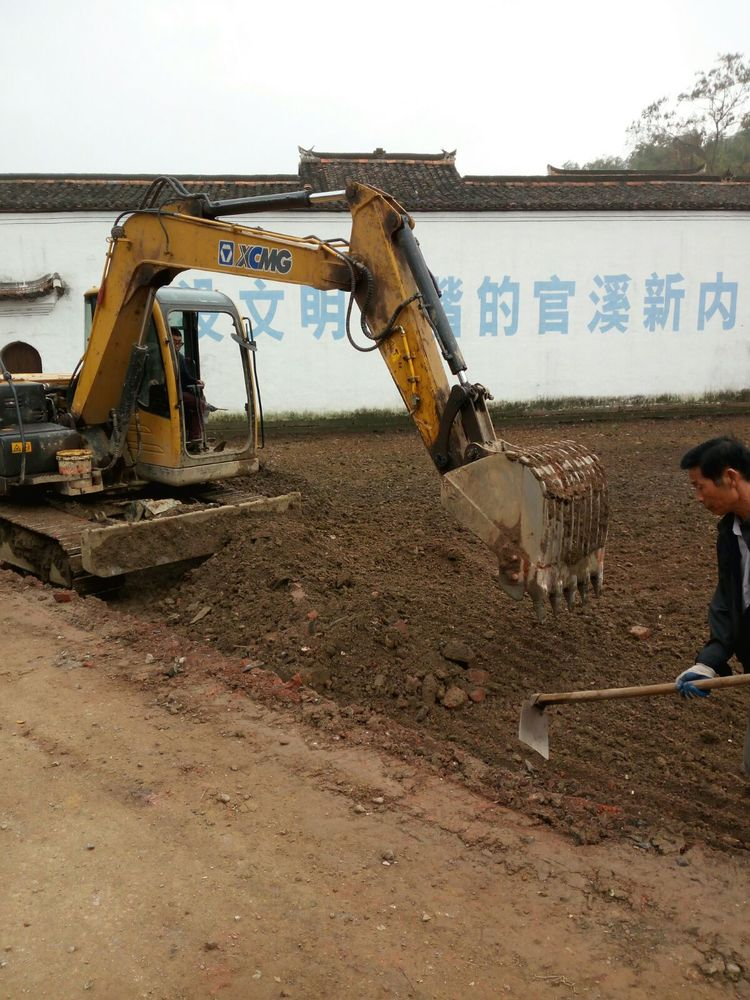excavator: (1, 150, 631, 625)
